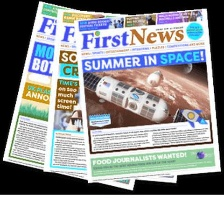news_paper: (0, 0, 146, 193), (73, 7, 224, 185), (39, 6, 182, 186)
